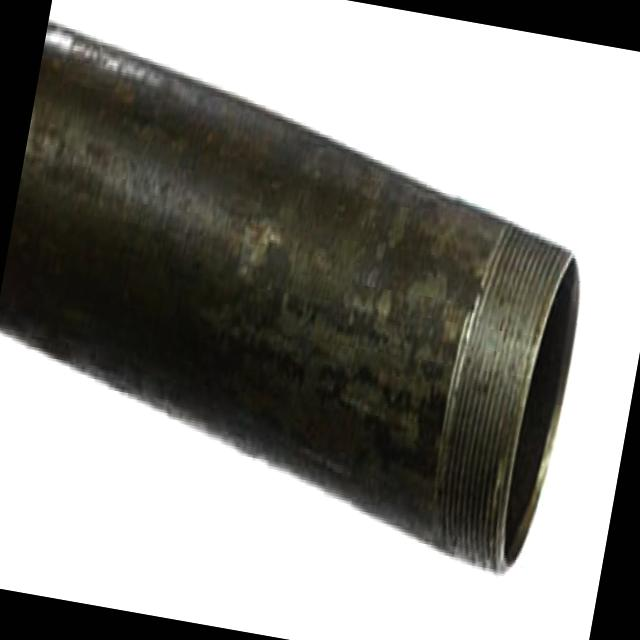gas: (0, 23, 579, 568)
